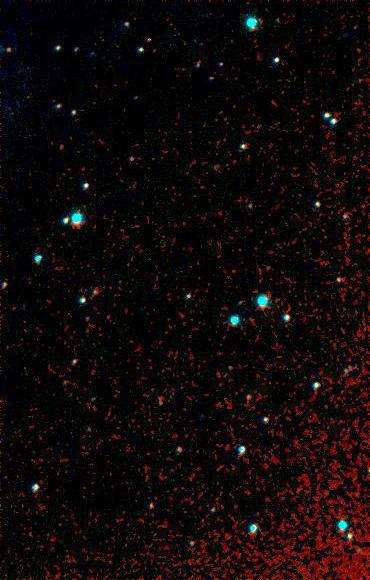star: (0, 33, 22, 63)
